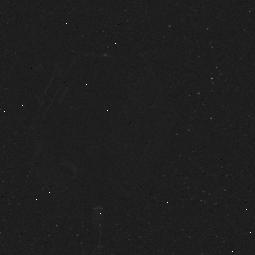proba_2: (20, 41, 143, 183)
